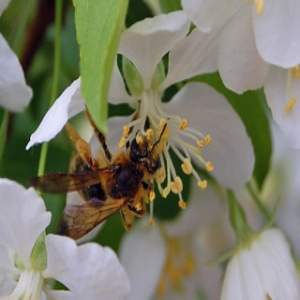bee: (34, 126, 172, 242)
